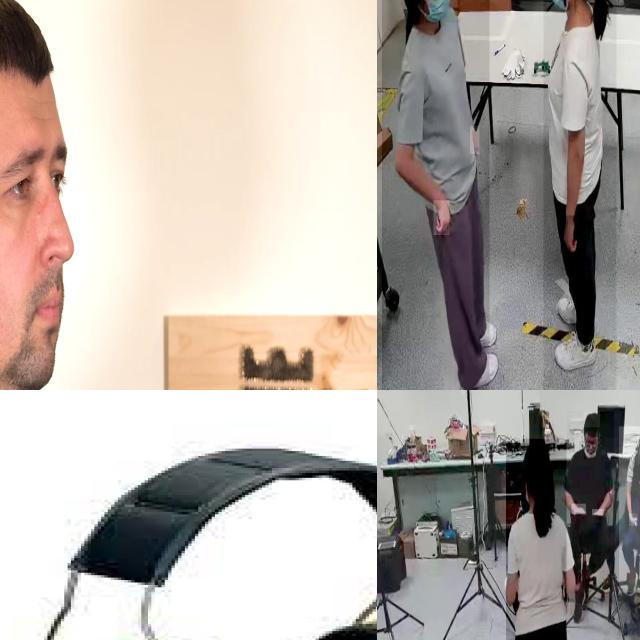Ear-protection: (41, 415, 377, 640)
No_Glasses: (0, 108, 72, 240)
face_mask: (422, 0, 459, 22), (637, 433, 640, 465)
hand_noglove: (560, 216, 578, 254), (434, 200, 450, 236), (470, 126, 480, 155), (572, 504, 586, 515), (629, 513, 638, 527), (592, 509, 604, 516)
head_nohelmet: (522, 438, 550, 464), (584, 411, 600, 428)
person: (382, 0, 490, 390), (0, 0, 100, 390), (543, 0, 616, 390), (506, 443, 567, 640), (566, 411, 614, 604), (619, 426, 640, 593)
shoes: (552, 330, 598, 376), (455, 350, 499, 390), (554, 293, 590, 328), (459, 316, 496, 348), (570, 577, 588, 629)
